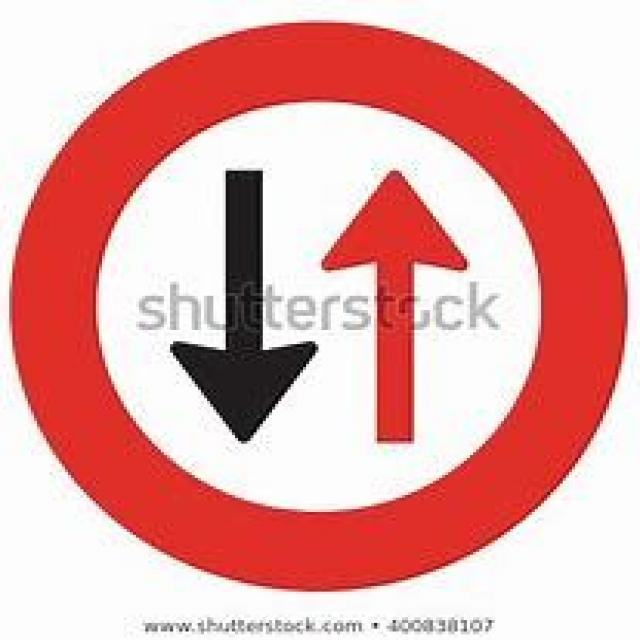PRIORITY_FOR_ONCOMING_VEHICLES: (6, 17, 625, 592)
